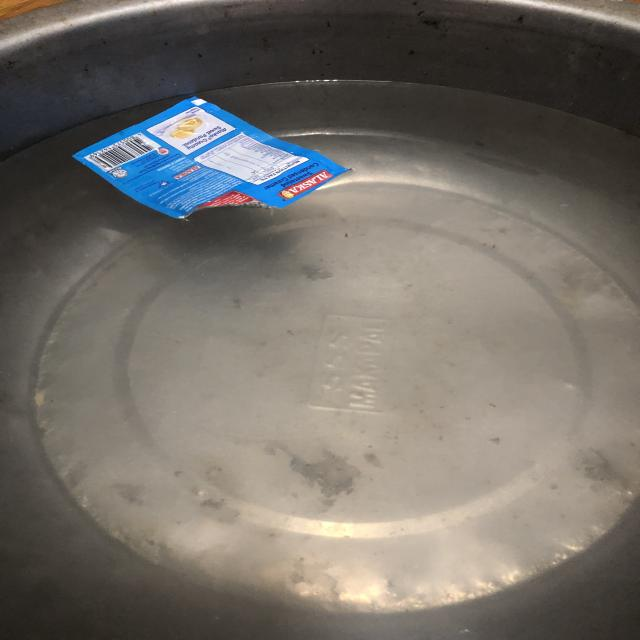Plastic Wrapper: (53, 81, 389, 259)
